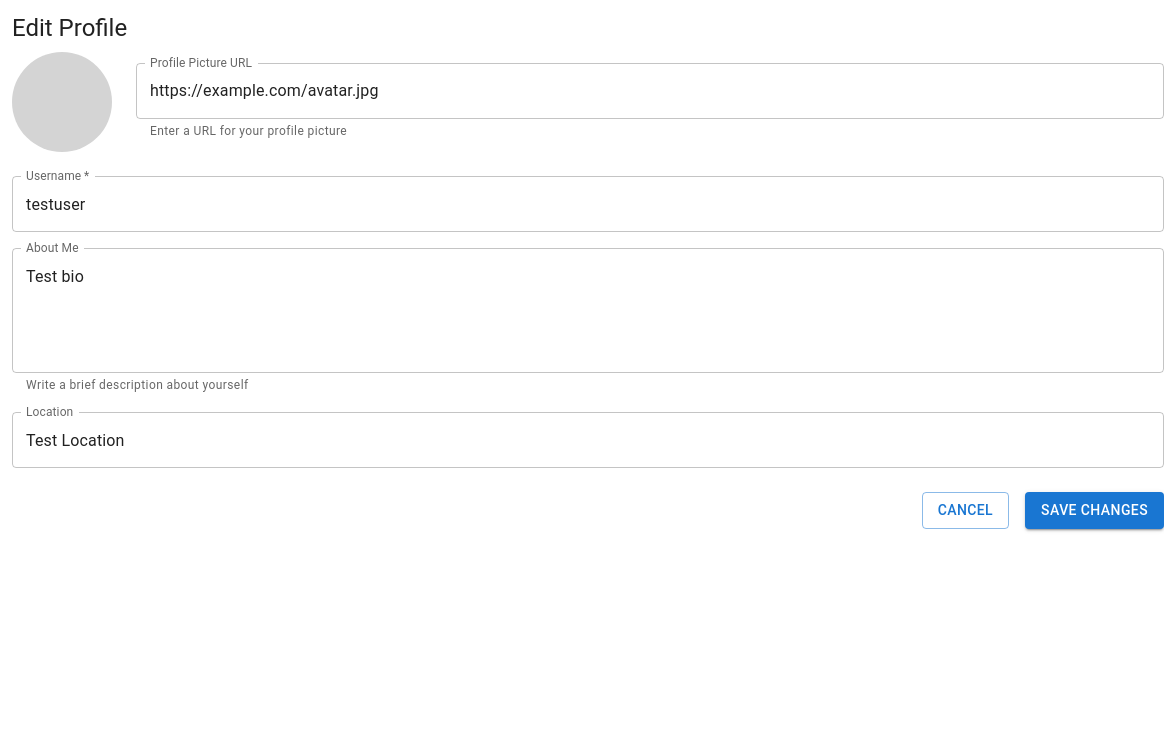
Test: ProfileEdit Component › handles form submission error
This screenshot has width=1176, height=732.
Click the button "Save Changes" at (1095, 511), box [1025,492,1164,529]
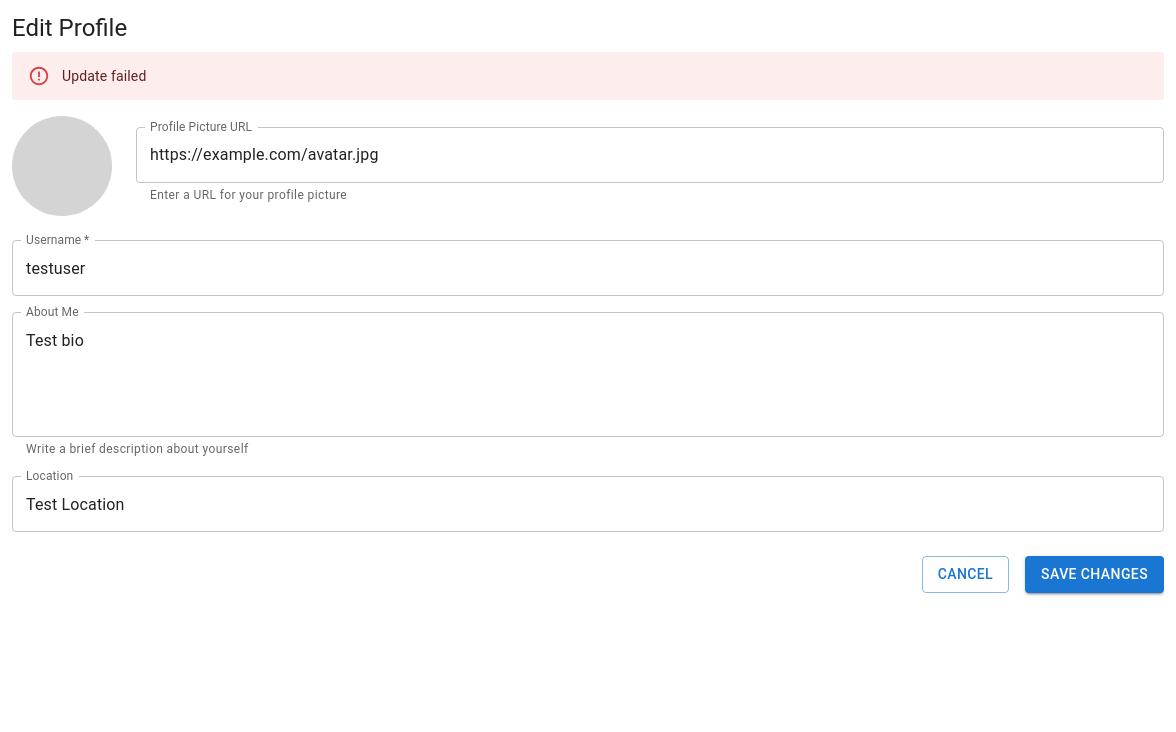
Expected: the text "Update failed" is shown, [62,68,146,84]
